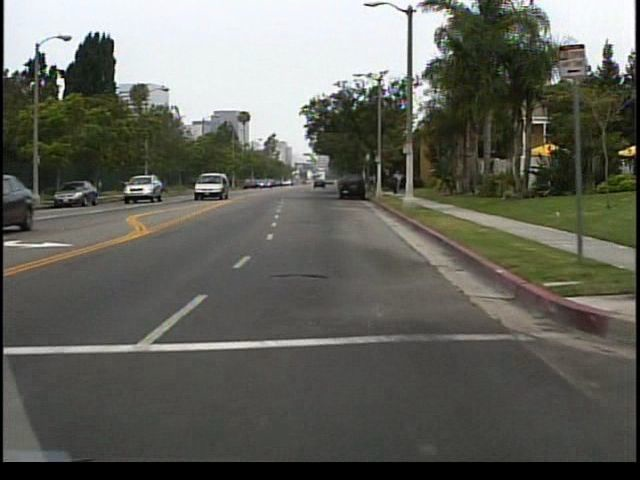person: (394, 169, 407, 197), (390, 173, 398, 194)
